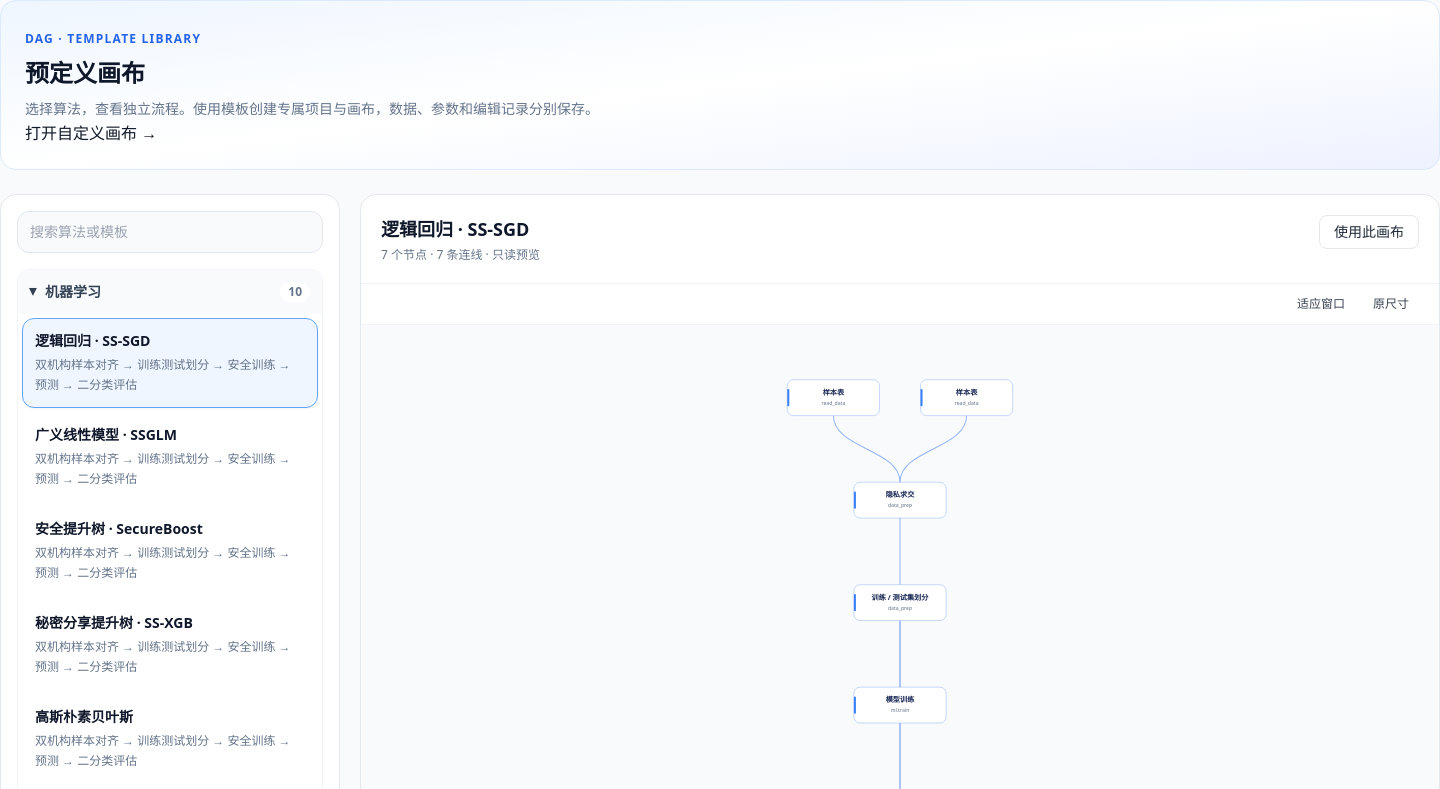
Test: searches templates without editing a saved graph
In the field labelled "搜索算法或模板": coordinates (170, 232) [17,211,323,253], type "SecureBoost"
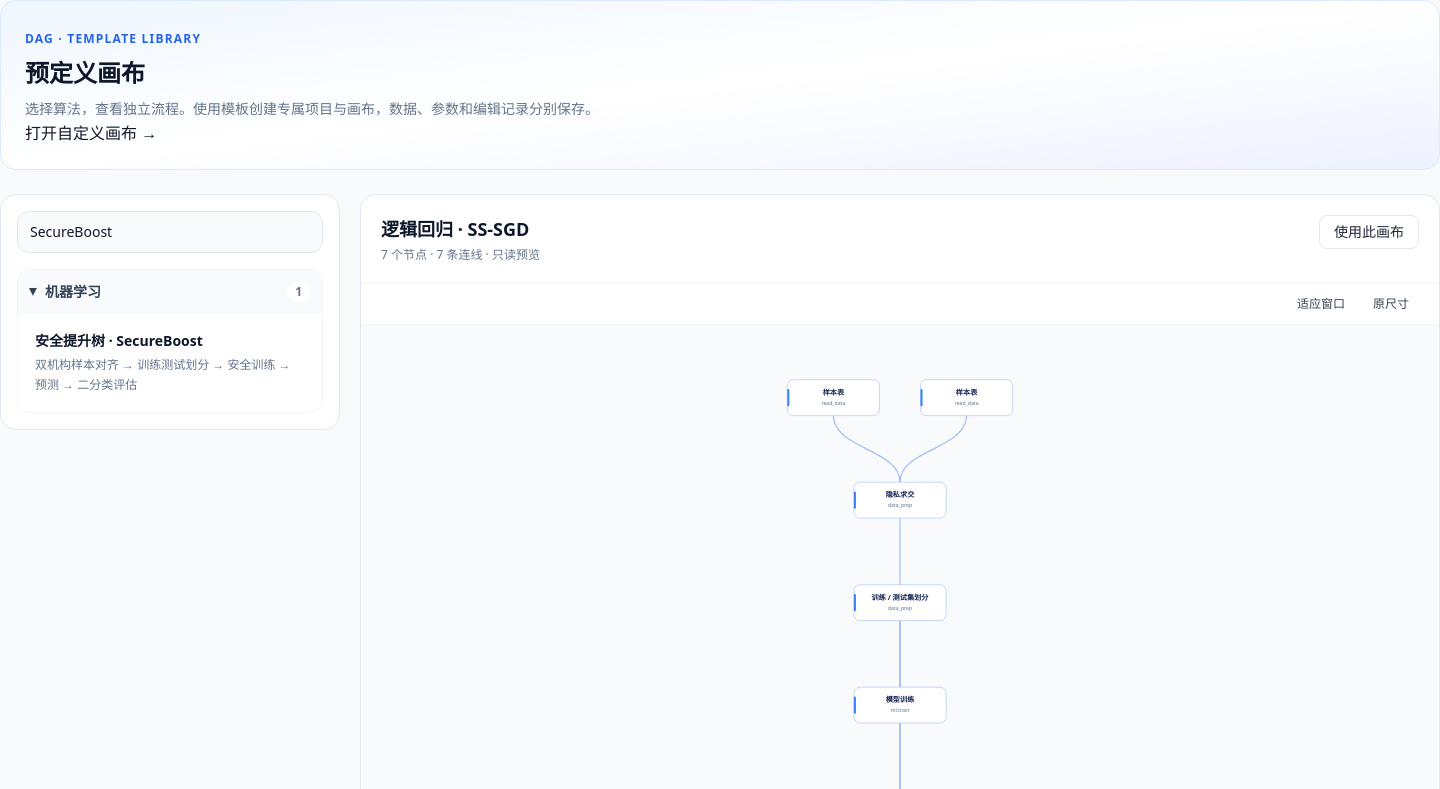
Check: the number of buttons "安全提升树 · SecureBoost 双机构样本对齐 → 训练测试划分 → 安全训练 → 预测 → 二分类评估" is 1, box [22,318,318,408]
